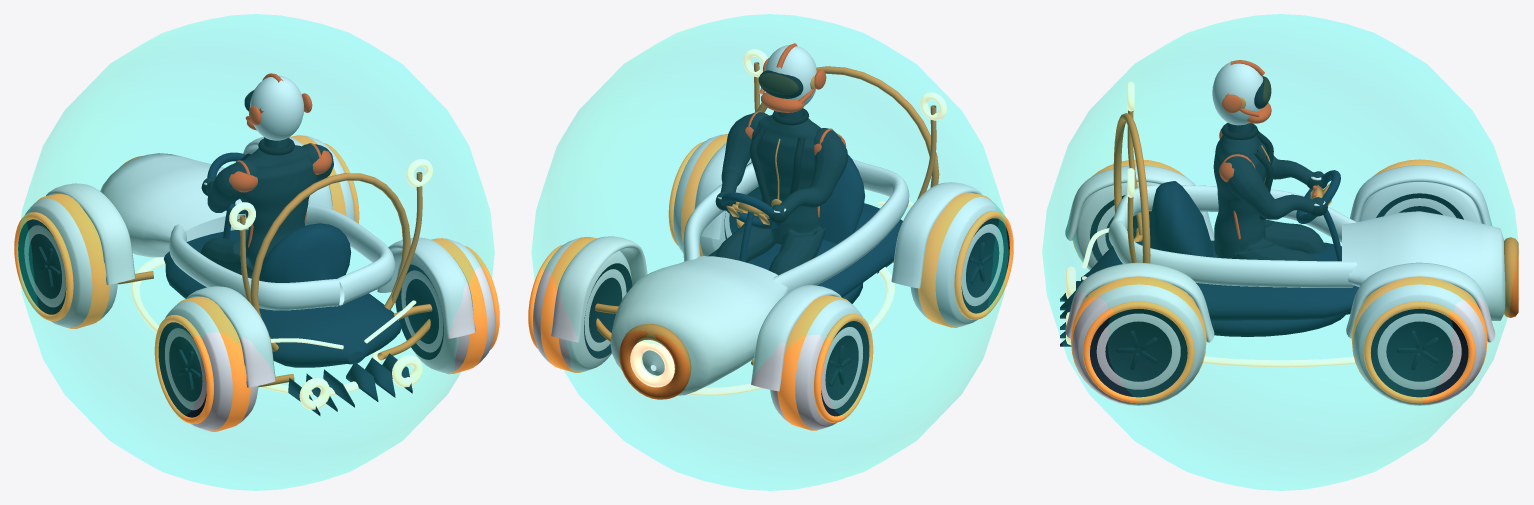
File: aether.glb
The picture shows the model from 3 angles, left to right: view 1: azimuth 30°, elevation 25°; view 2: azimuth 150°, elevation 25°; view 3: azimuth 270°, elevation 25°; orthographic projection.
Parts seen in each view (by area): view 1: aether:aegis-shield, aether:coachwork-batch.001, aether:coachwork-batch, aether:torso, aether:coachwork-batch.002, aether:rounded-wheel-shell, aether:rounded-wheel-shell.002, aether:rounded-wheel-shell.003, aether:helmet-shell, aether:translucent-tire-band.002, aether:translucent-tire-band, aether:recessed-colored-hub.002 (+12 smaller); view 2: aether:aegis-shield, aether:coachwork-batch.001, aether:torso, aether:coachwork-batch, aether:coachwork-batch.002, aether:rounded-wheel-shell, aether:rounded-wheel-shell.002, aether:rounded-wheel-shell.001, aether:arm-l-mesh, aether:translucent-tire-band, aether:translucent-tire-band.002, aether:recessed-colored-hub.002 (+17 smaller); view 3: aether:aegis-shield, aether:coachwork-batch.001, aether:coachwork-batch, aether:torso, aether:rounded-wheel-shell.003, aether:rounded-wheel-shell.001, aether:recessed-colored-hub.003, aether:recessed-colored-hub.001, aether:coachwork-batch.002, aether:rounded-wheel-shell, aether:arm-r-mesh, aether:wheel-light-ring.003 (+10 smaller).
Part boxes in pixels (box(x1,y1,x2,y2)): aether:aegis-shield: box(17, 14, 494, 490); aether:coachwork-batch.001: box(46, 136, 475, 387); aether:coachwork-batch: box(164, 201, 412, 415); aether:torso: box(200, 137, 317, 277); aether:coachwork-batch.002: box(118, 156, 432, 387); aether:rounded-wheel-shell: box(24, 198, 117, 327); aether:rounded-wheel-shell.002: box(165, 301, 258, 430); aether:rounded-wheel-shell.003: box(396, 238, 494, 372); aether:helmet-shell: box(249, 75, 304, 140); aether:translucent-tire-band.002: box(177, 296, 250, 431); aether:translucent-tire-band: box(37, 193, 110, 328); aether:recessed-colored-hub.002: box(158, 322, 206, 417); aether:aegis-shield: box(531, 14, 1008, 490); aether:coachwork-batch.001: box(551, 142, 981, 395); aether:torso: box(715, 108, 825, 275); aether:coachwork-batch: box(708, 154, 902, 303); aether:coachwork-batch.002: box(595, 62, 939, 399); aether:rounded-wheel-shell: box(770, 300, 862, 429); aether:rounded-wheel-shell.002: box(910, 197, 1003, 326); aether:rounded-wheel-shell.001: box(533, 237, 631, 371); aether:arm-l-mesh: box(772, 128, 847, 215); aether:translucent-tire-band: box(777, 295, 850, 430); aether:translucent-tire-band.002: box(918, 192, 991, 327); aether:recessed-colored-hub.002: box(961, 218, 1009, 313); aether:aegis-shield: box(1042, 14, 1519, 490); aether:coachwork-batch.001: box(1065, 165, 1505, 342); aether:coachwork-batch: box(1060, 181, 1368, 346); aether:torso: box(1213, 123, 1327, 261); aether:rounded-wheel-shell.003: box(1072, 284, 1205, 405); aether:rounded-wheel-shell.001: box(1353, 284, 1485, 405); aether:recessed-colored-hub.003: box(1090, 308, 1187, 397); aether:recessed-colored-hub.001: box(1371, 308, 1468, 397); aether:coachwork-batch.002: box(1113, 110, 1518, 317); aether:rounded-wheel-shell: box(1359, 182, 1480, 223); aether:arm-r-mesh: box(1223, 152, 1324, 219); aether:wheel-light-ring.003: box(1082, 301, 1194, 403).
Bounding box in the file's own units: 4.3 × 4.3 × 4.3.
